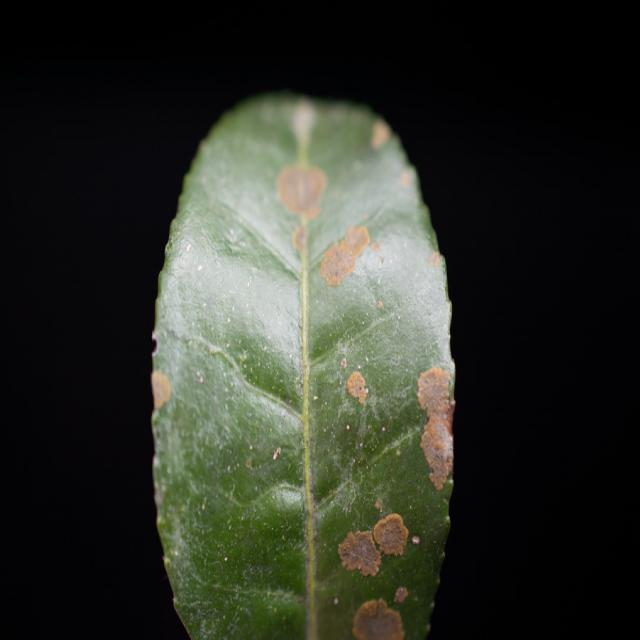Tea red rust: (275, 145, 373, 284), (336, 499, 432, 639), (405, 355, 477, 485)
